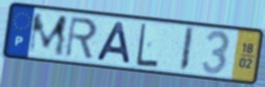3: (201, 30, 233, 77)
A: (93, 20, 133, 65)
I: (177, 26, 196, 74)
L: (135, 22, 160, 69)
M: (26, 12, 70, 58)
R: (63, 16, 99, 61)
